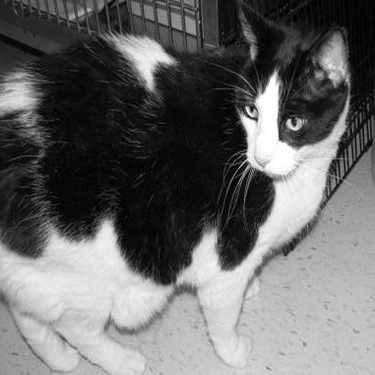cat: (1, 28, 366, 368)
